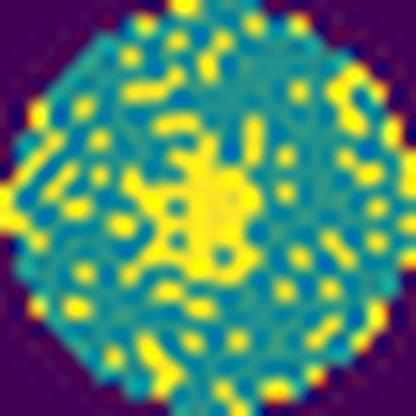Center: (117, 117, 266, 284)
